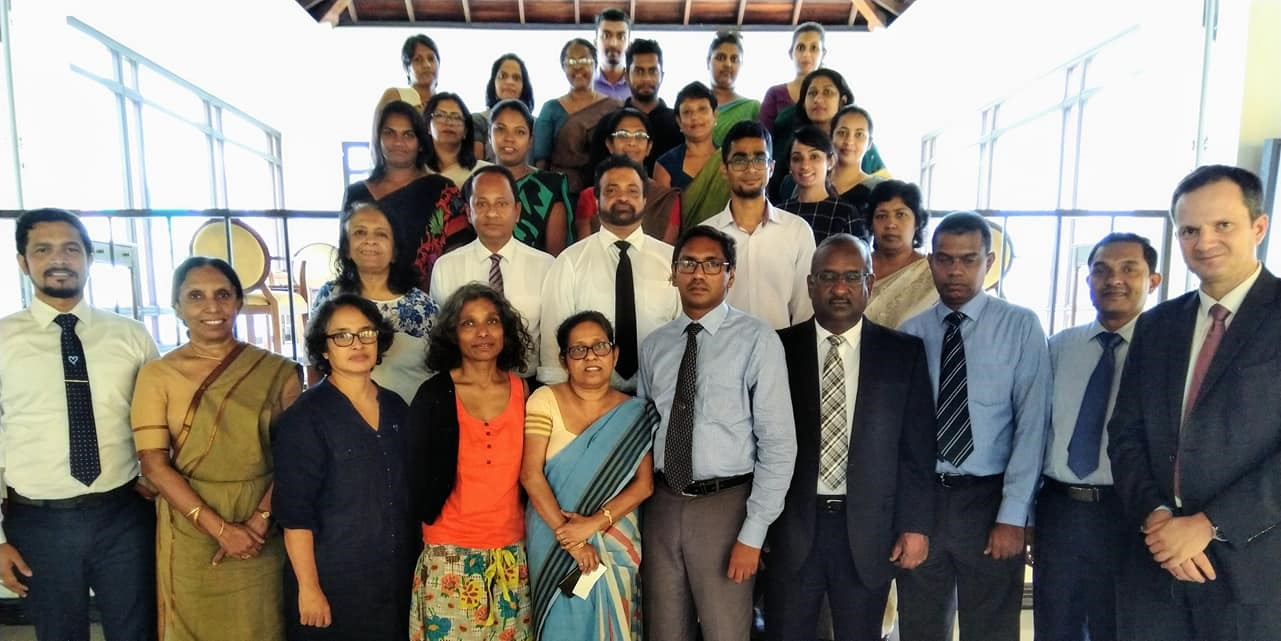person: (1132, 168, 1276, 637), (3, 197, 153, 638), (132, 259, 285, 635), (906, 217, 1032, 637), (642, 233, 767, 637), (772, 231, 895, 635), (407, 281, 539, 641), (1041, 218, 1148, 638), (528, 298, 648, 639), (292, 299, 408, 637), (556, 165, 673, 302), (686, 127, 813, 234), (298, 202, 415, 301), (441, 172, 545, 282), (343, 92, 428, 197), (547, 40, 603, 160), (821, 101, 873, 199), (478, 106, 544, 183), (768, 12, 834, 85), (788, 69, 861, 134), (419, 92, 477, 172), (668, 85, 719, 174), (863, 178, 917, 260), (583, 10, 632, 98), (382, 39, 449, 102), (699, 37, 752, 114), (791, 131, 832, 219), (479, 47, 537, 105), (600, 116, 656, 168), (621, 47, 663, 115)
